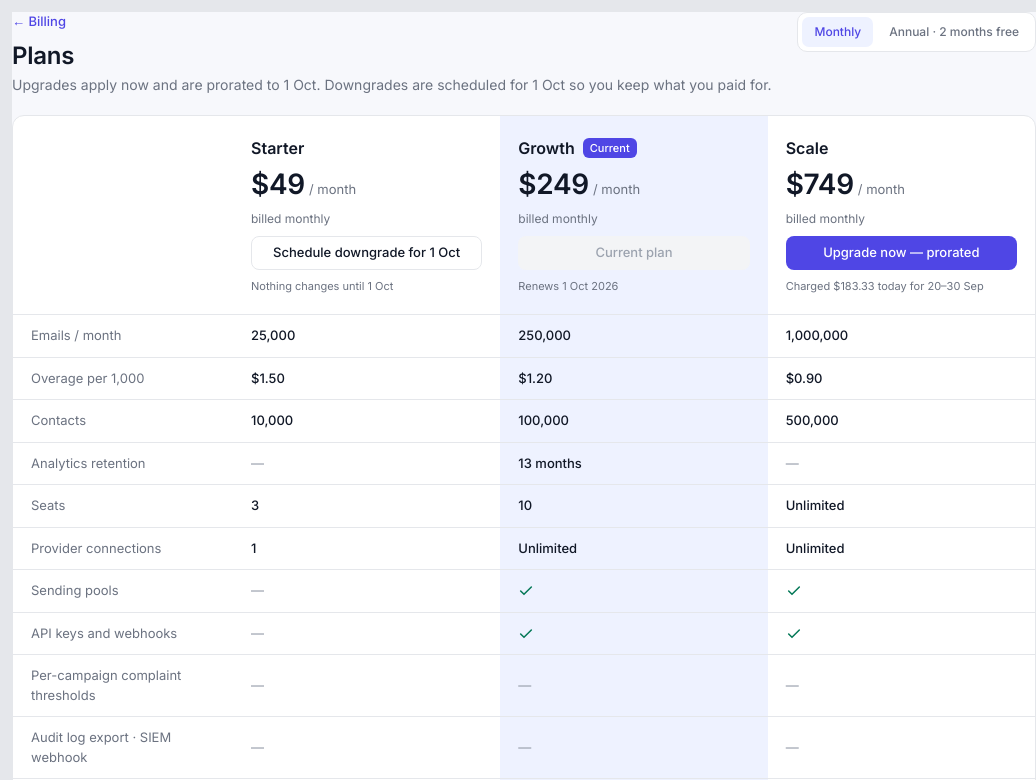
Test case: the plans page (I2) › switches the whole table to the annual price
The width and height of the screenshot is (1036, 780).
Expected: the text "$249" is shown, [518, 168, 589, 202]
Click the button "Annual · 2 months free": (954, 32) [877, 17, 1031, 47]
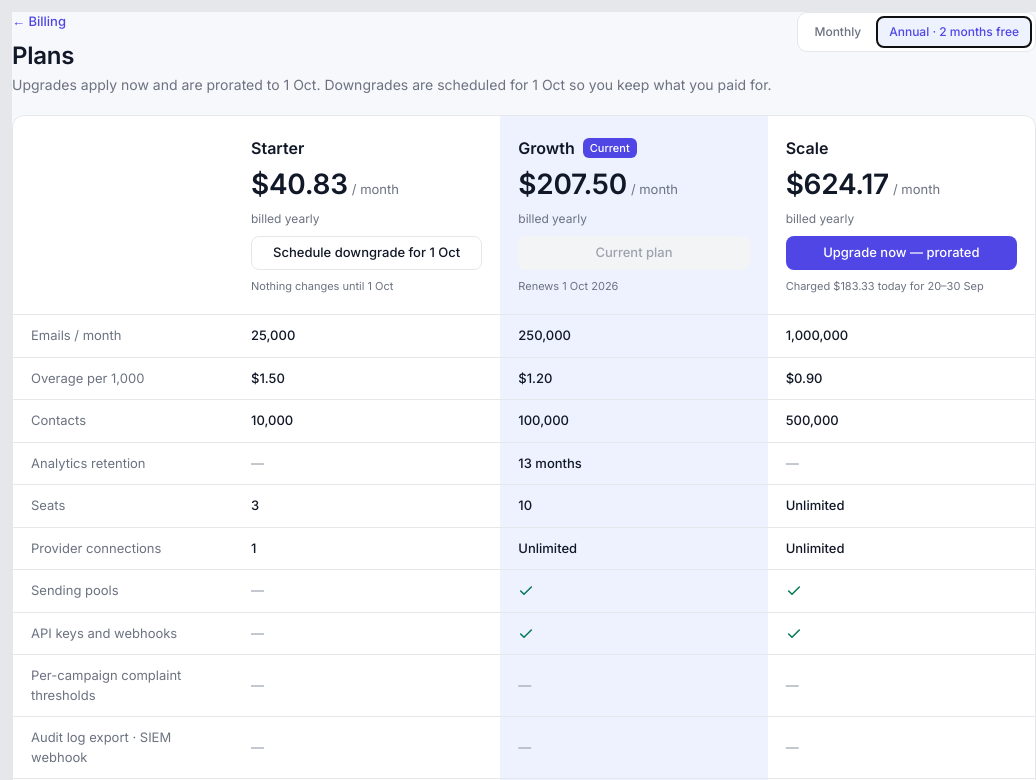
Now the text "$207.50" is shown, box [518, 168, 627, 202]
Now the text "billed yearly" below "$40.83" is shown, box [251, 211, 320, 226]
